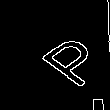P_NW: (12, 23, 98, 87)
